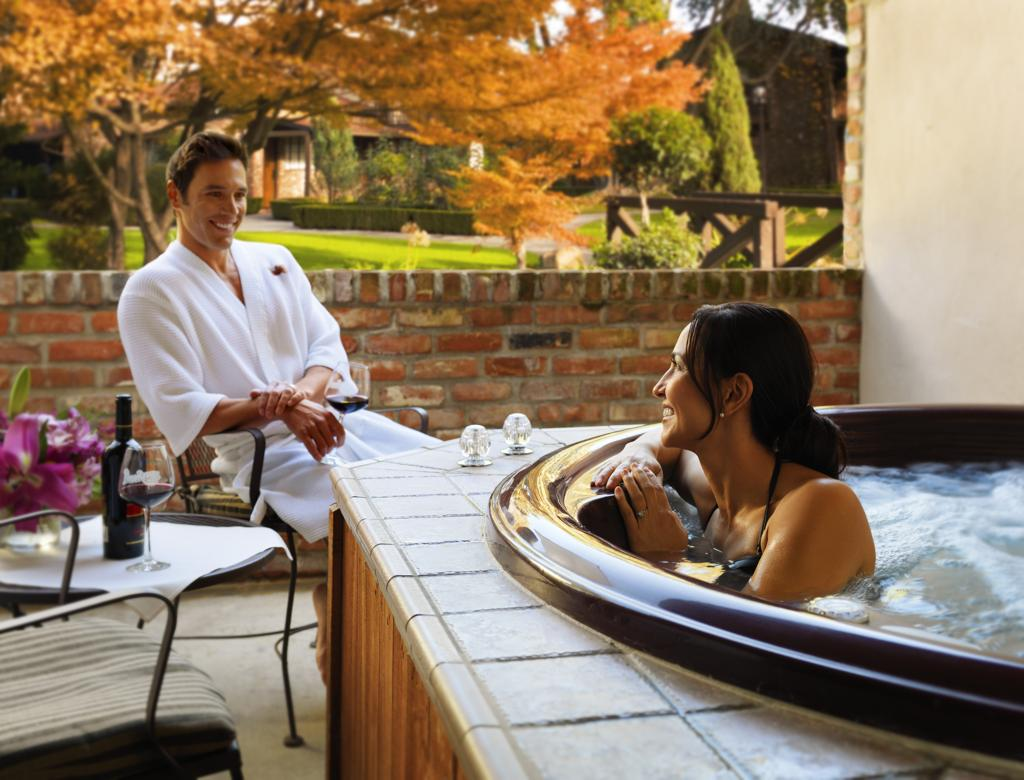face: (650, 338, 734, 446), (184, 170, 250, 250)
